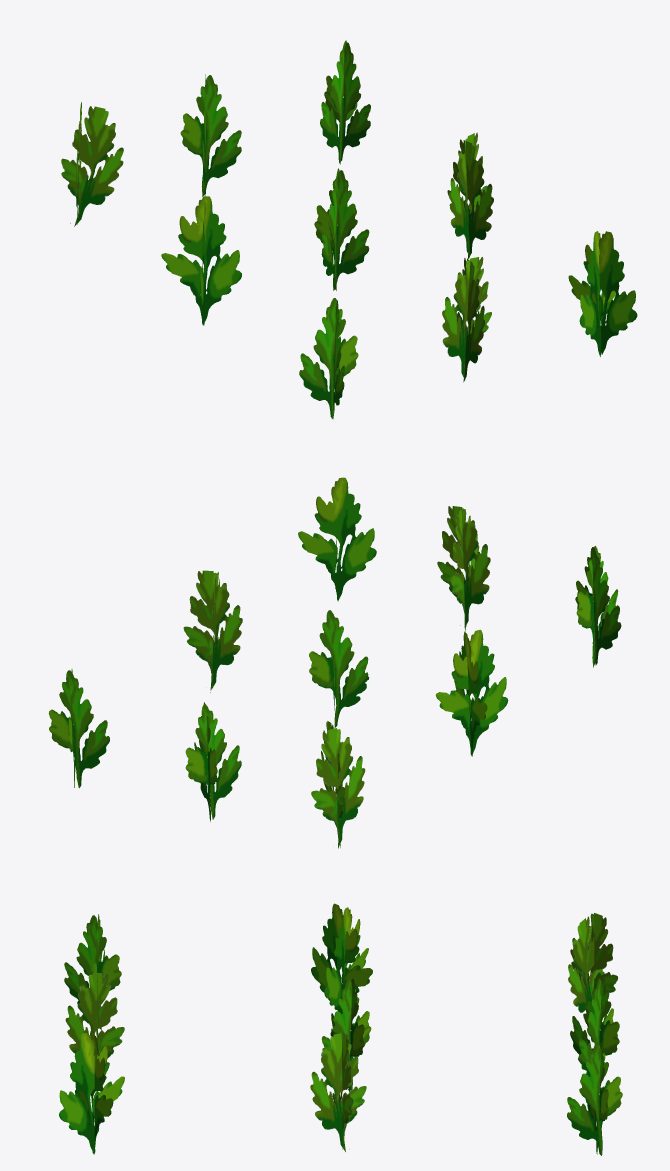
The model's file is Carrot_Step01.fbx.
3 renders of one model, top to bottom at view 1: azimuth 30°, elevation 25°; view 2: azimuth 150°, elevation 25°; view 3: azimuth 270°, elevation 25°, orthographic. The views are drawn at different scales.
Visible parts, largest first — view 1: Carrot_Step01; view 2: Carrot_Step01; view 3: Carrot_Step01.
Boxes of the visible parts, box(x1,y1,x2,y2) form: Carrot_Step01: box(61, 40, 637, 419); Carrot_Step01: box(48, 477, 621, 848); Carrot_Step01: box(59, 903, 622, 1155).
Size of the model in its own units: 125 by 41.61 by 182.
